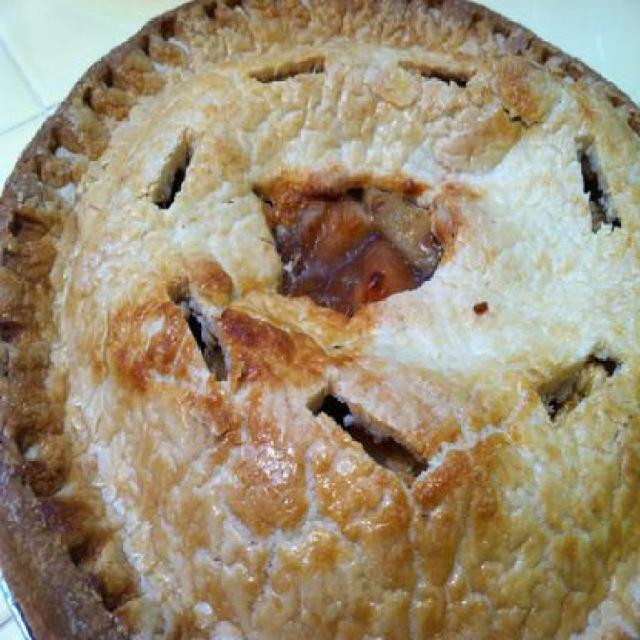Apple: (17, 7, 632, 638)
